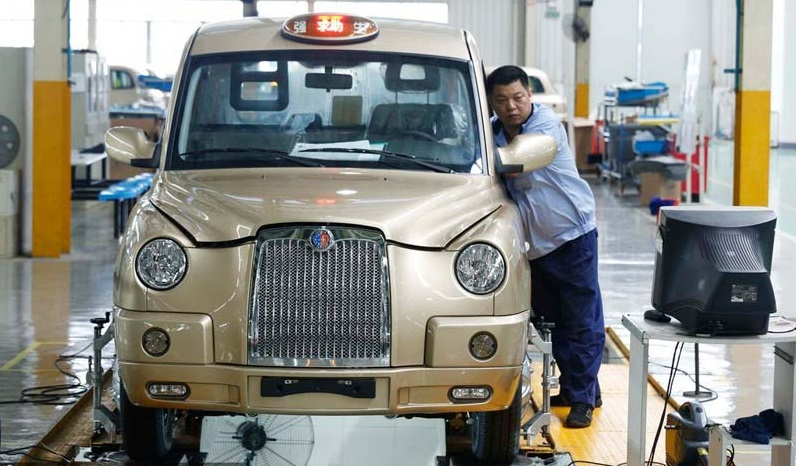taxi: (103, 13, 558, 466)
